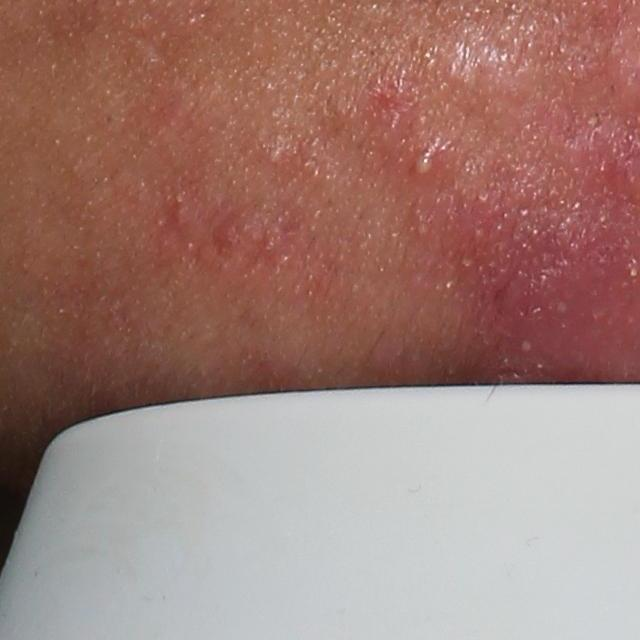hypertrophic_scar: (415, 19, 552, 136)
pustule: (407, 144, 441, 180)
